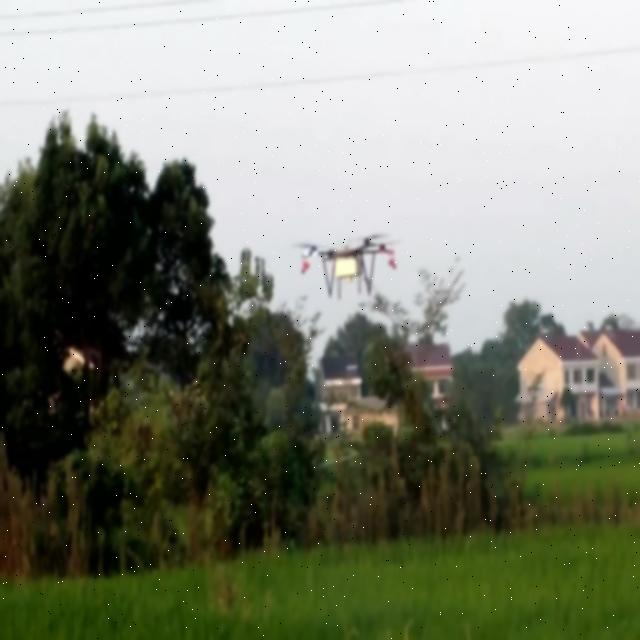UAV: (293, 233, 399, 301)
